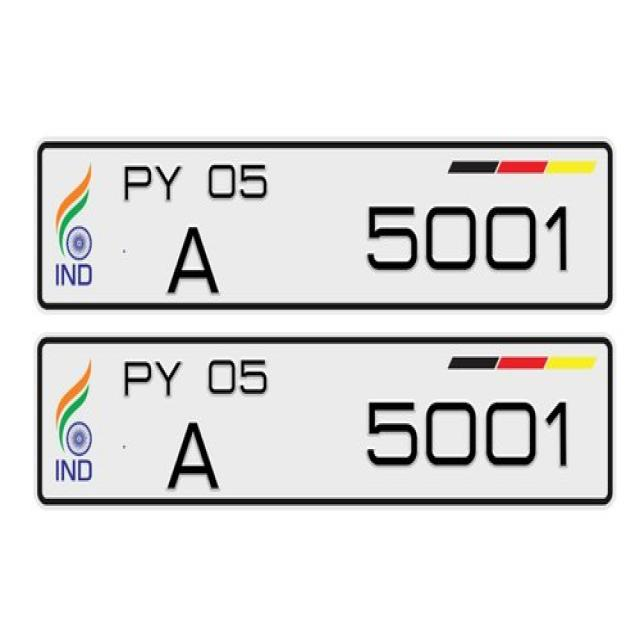plate: (27, 131, 623, 318), (29, 334, 621, 511)
